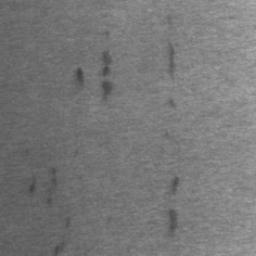Iron scale compression: (47, 167, 57, 203), (169, 210, 178, 237), (168, 43, 174, 77), (171, 177, 179, 196), (27, 178, 35, 196), (103, 83, 111, 100), (74, 68, 82, 84), (53, 245, 61, 256), (103, 50, 111, 60), (102, 66, 109, 75)
